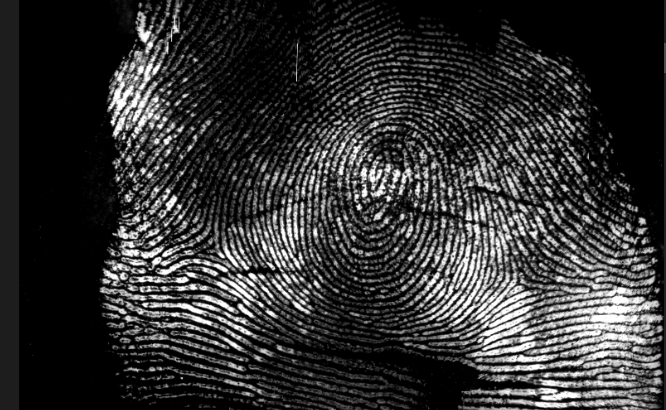nucelo: (368, 154, 388, 193)
verticilo: (203, 240, 229, 263), (509, 276, 534, 296)
